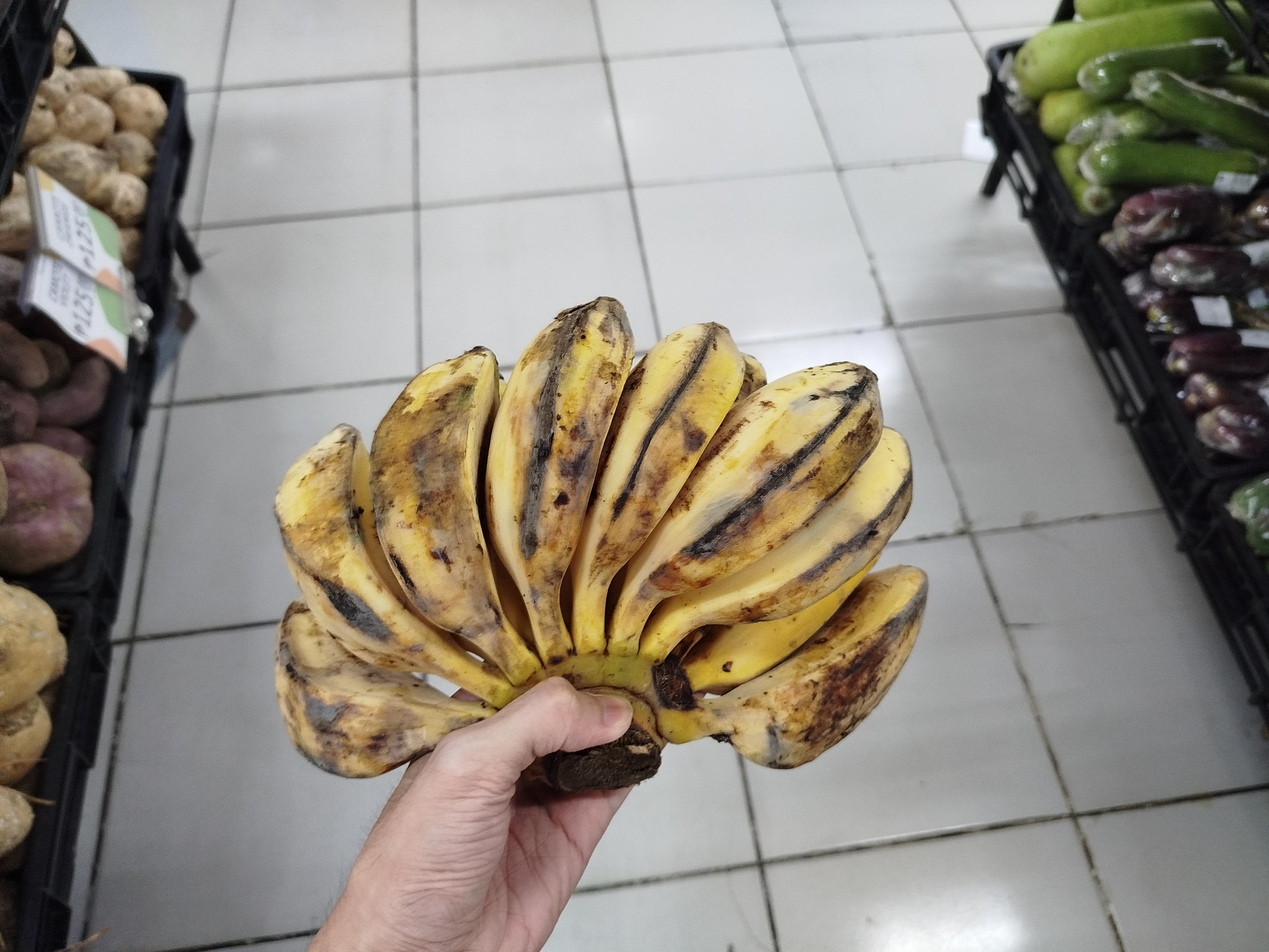ripe: (275, 298, 927, 777)
